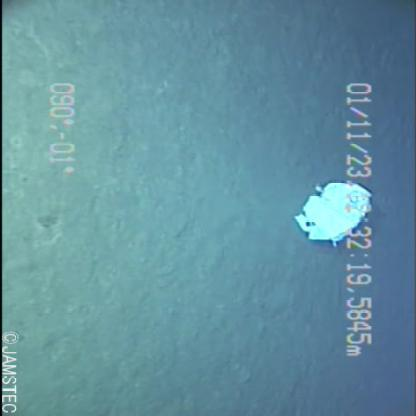Rác: (289, 166, 375, 249)
